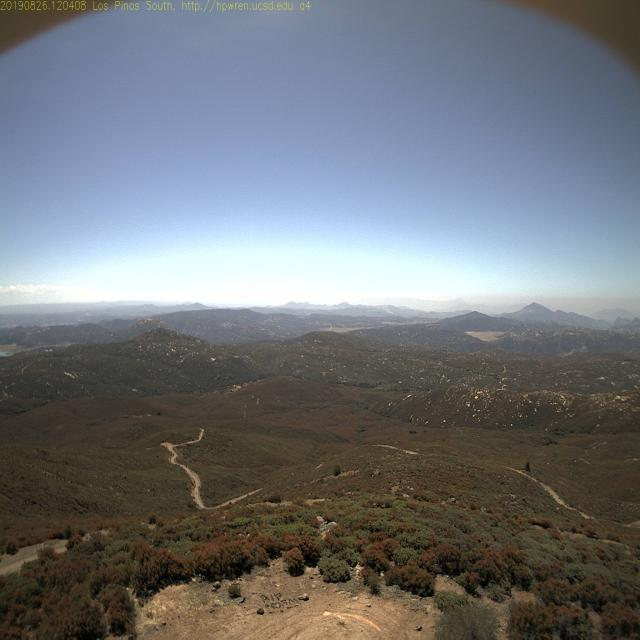smoke: (382, 303, 394, 316)
